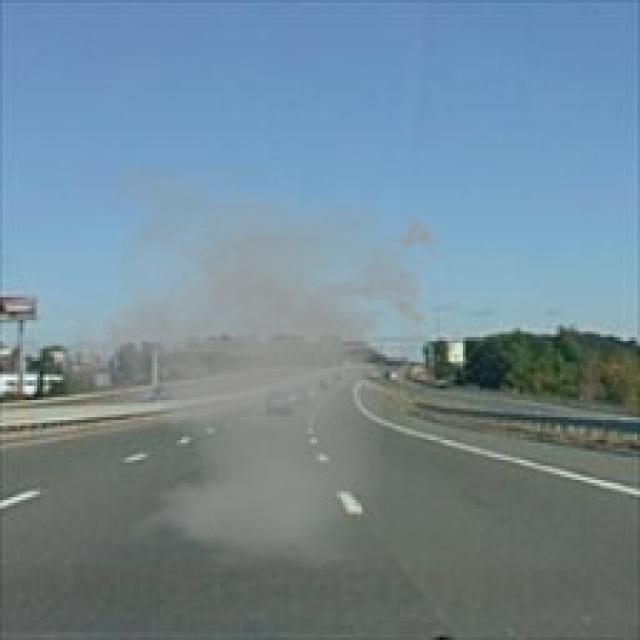smoke: (40, 163, 457, 568)
